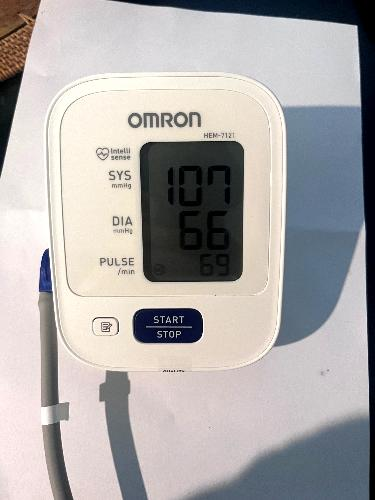bpm: (140, 141, 245, 282)
